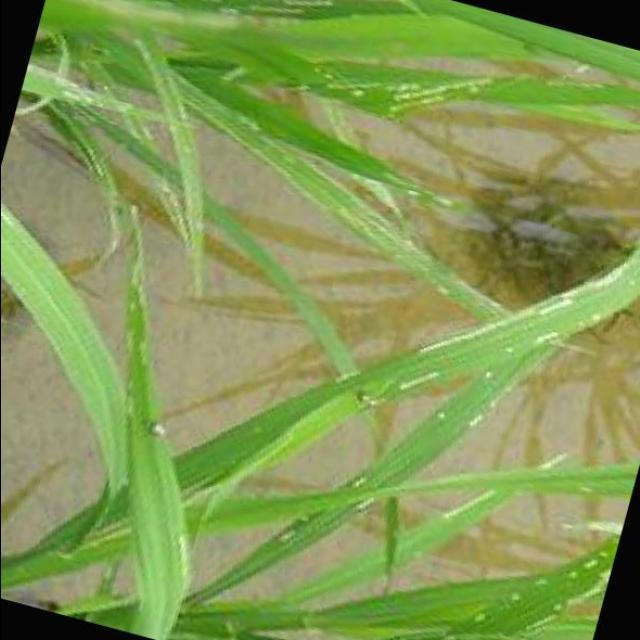ricebug: (150, 423, 165, 437)
